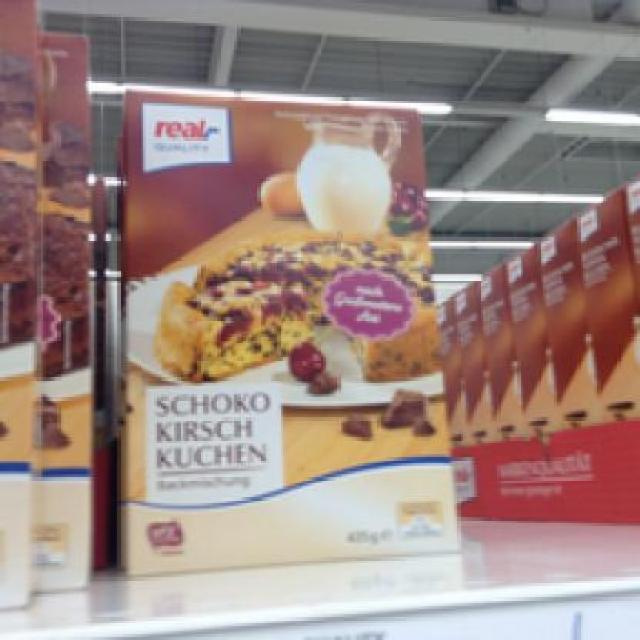Cake: (111, 82, 458, 588)
